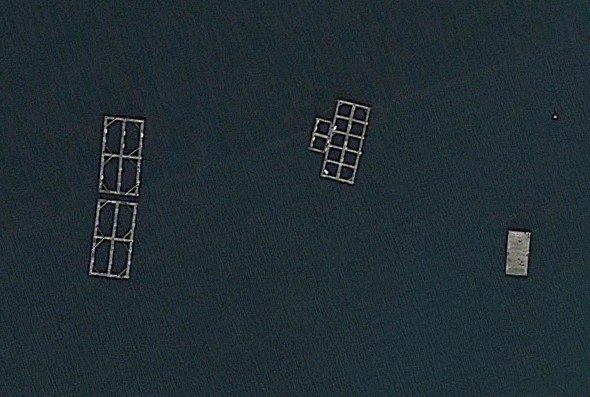platform: (498, 222, 533, 284)
